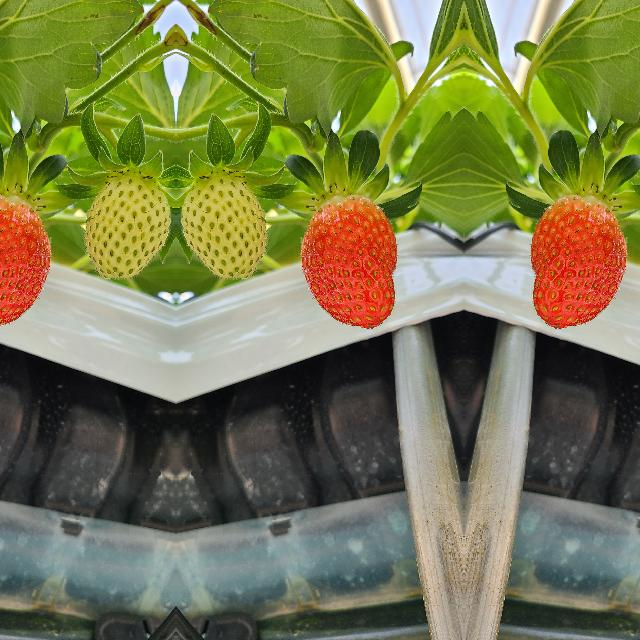Health_100: (298, 194, 398, 330), (528, 194, 628, 330), (0, 194, 52, 330)
Health_25: (178, 175, 268, 275), (82, 175, 172, 275)
